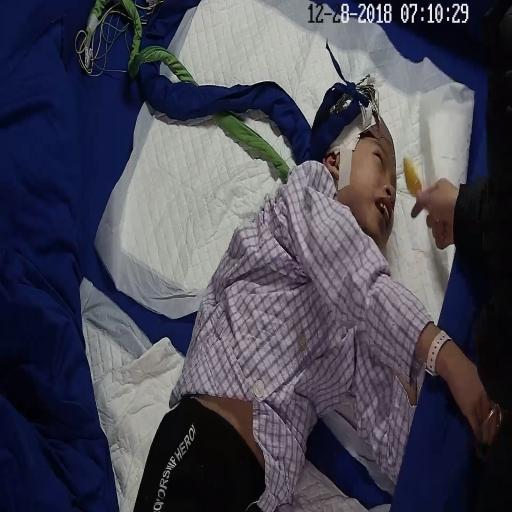Seizure: (327, 113, 395, 238)
